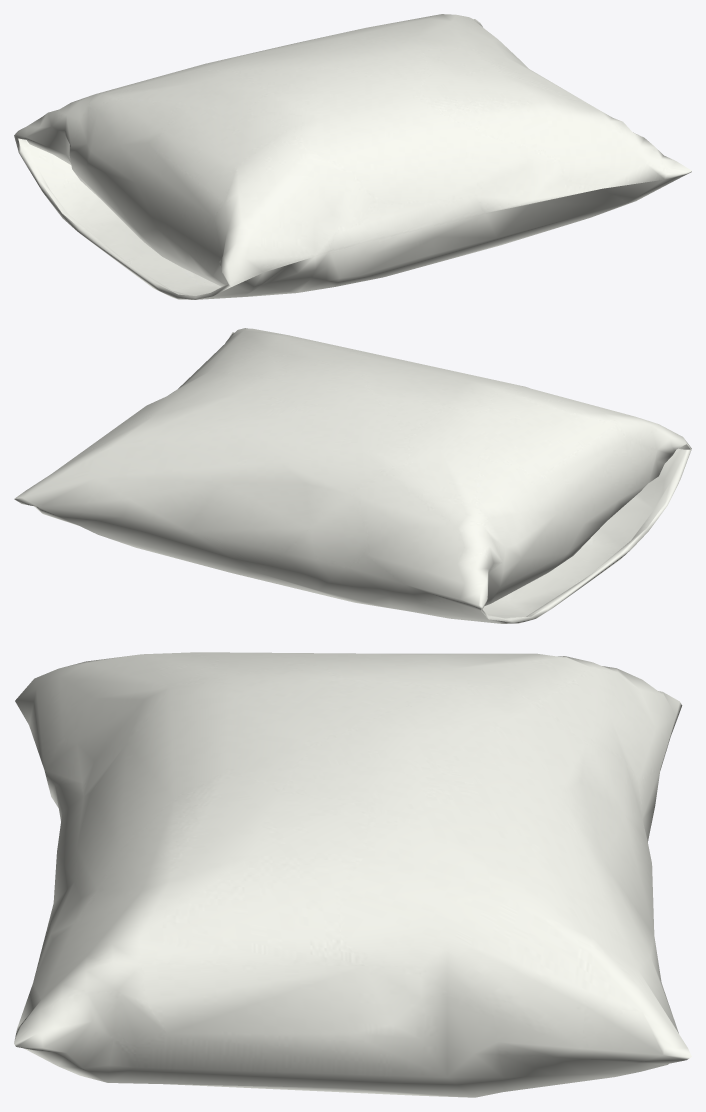
The model's file is barglim_poszewka_10621462.glb.
The picture shows the model from 3 angles, top to bottom: view 1: azimuth 30°, elevation 25°; view 2: azimuth 150°, elevation 25°; view 3: azimuth 270°, elevation 25°; orthographic projection. The views are drawn at different scales.
Parts seen in each view (by area): view 1: barglim_poszewka_10621462; view 2: barglim_poszewka_10621462; view 3: barglim_poszewka_10621462.
Part boxes in pixels (box(x1,y1,x2,y2)): barglim_poszewka_10621462: box(14, 14, 691, 299); barglim_poszewka_10621462: box(14, 328, 691, 623); barglim_poszewka_10621462: box(14, 652, 691, 1097).
Size of the model in its own units: 0.5937 by 0.1739 by 0.4792.
Materials: 1 (1 with a texture image).
